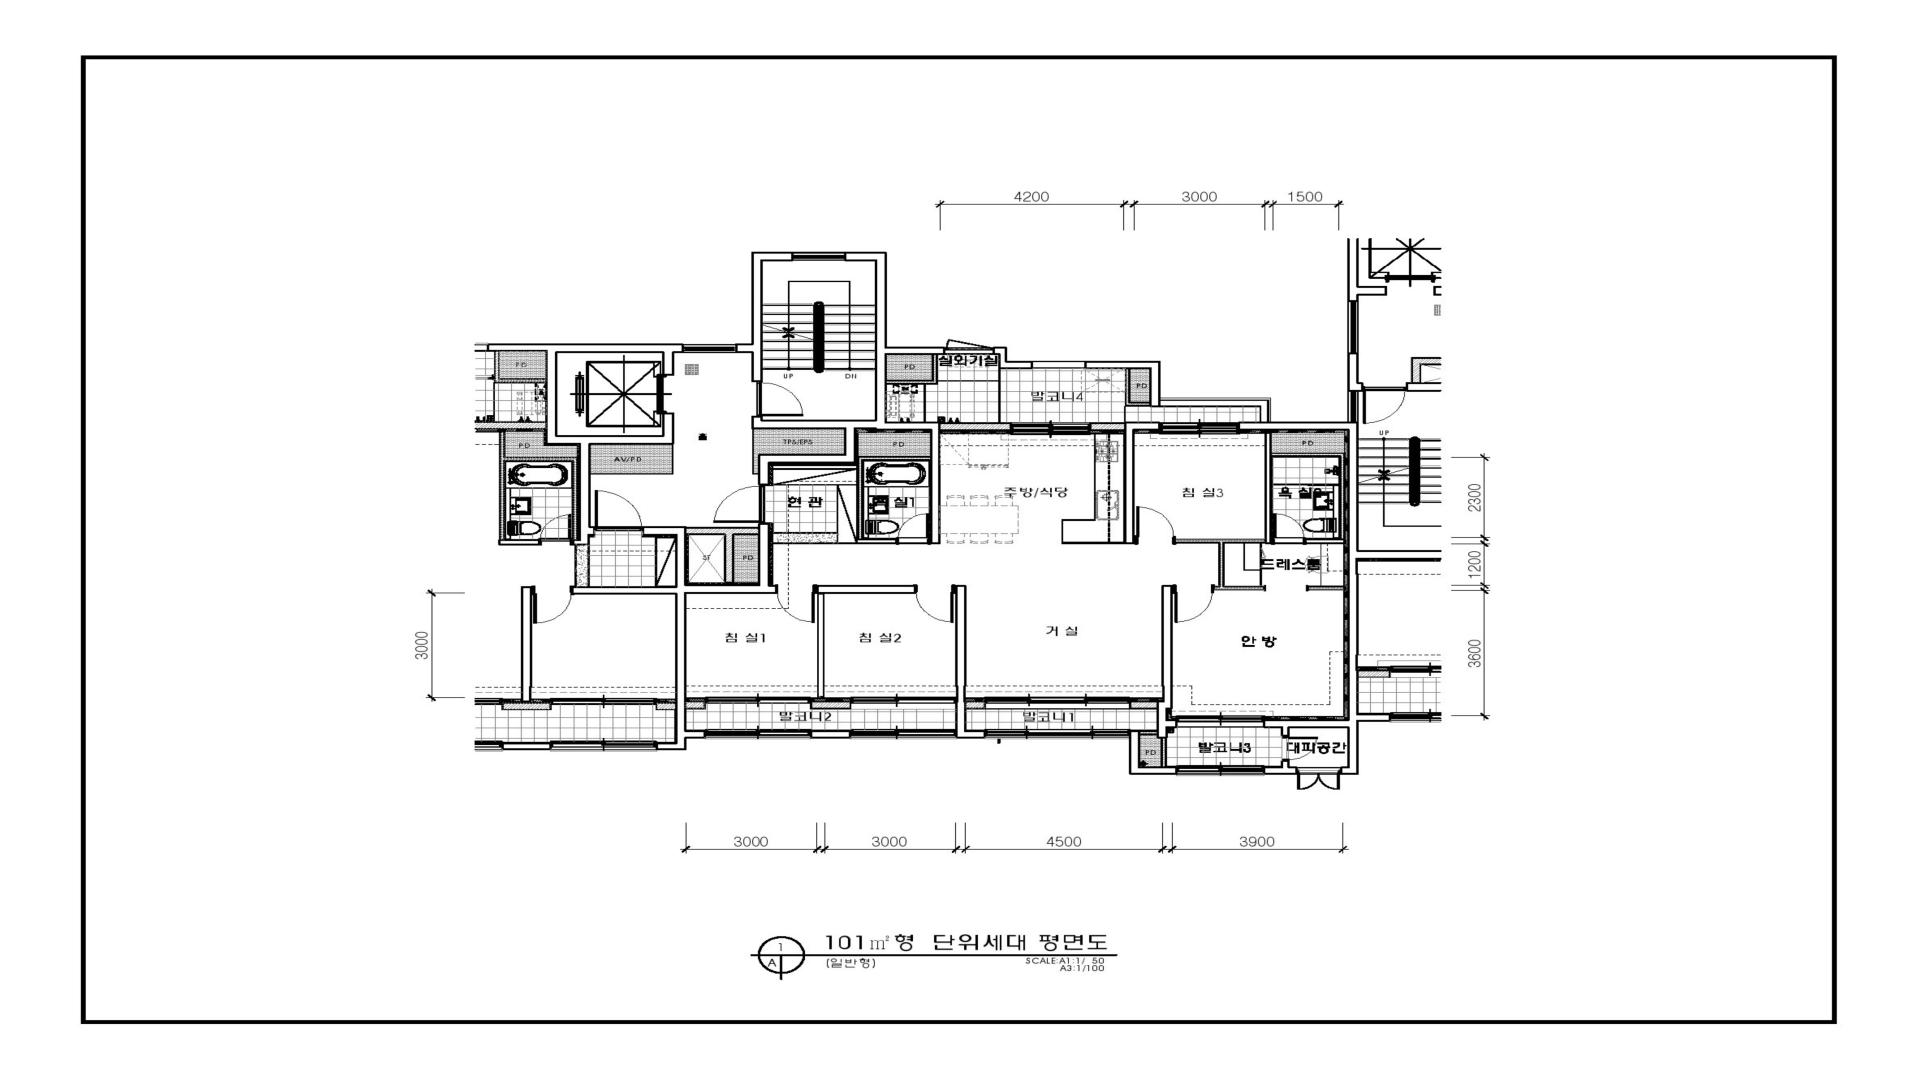door: (594, 490, 643, 531), (713, 485, 765, 523), (1363, 386, 1406, 424), (756, 382, 804, 416), (1173, 585, 1215, 623), (777, 585, 817, 623), (915, 585, 955, 623), (1135, 506, 1174, 544), (1271, 513, 1306, 544), (895, 513, 930, 544), (1282, 736, 1318, 761)
wall: (1085, 361, 1441, 775), (752, 252, 944, 544), (643, 523, 777, 750), (546, 343, 683, 535), (816, 585, 915, 697), (735, 252, 793, 382), (1272, 453, 1345, 539), (955, 585, 985, 739), (1174, 540, 1265, 590), (1123, 422, 1160, 544), (686, 527, 759, 582), (1157, 585, 1176, 738), (590, 444, 673, 475), (1347, 238, 1387, 301), (1129, 730, 1176, 775), (887, 355, 938, 385), (1264, 433, 1272, 544), (1126, 369, 1150, 406), (994, 347, 1033, 369), (940, 422, 1011, 431), (1347, 353, 1363, 392), (1264, 761, 1297, 775), (1406, 382, 1442, 392), (811, 730, 850, 739), (810, 701, 850, 709), (1090, 422, 1124, 430), (752, 429, 758, 474), (1129, 701, 1157, 710), (1306, 539, 1345, 544), (686, 701, 706, 710), (1161, 738, 1167, 766), (1308, 585, 1345, 589), (966, 702, 986, 709), (1140, 730, 1157, 735)
window: (985, 697, 1130, 710), (984, 729, 1129, 739), (704, 729, 812, 739), (850, 729, 957, 739), (1176, 716, 1264, 728), (1011, 422, 1090, 435), (1297, 767, 1341, 790), (1176, 765, 1264, 776), (1160, 422, 1239, 434), (944, 339, 994, 355), (850, 697, 956, 704), (706, 697, 810, 704), (1347, 301, 1359, 353), (793, 252, 845, 261), (683, 344, 735, 353), (1033, 361, 1086, 369), (1347, 392, 1359, 422)
